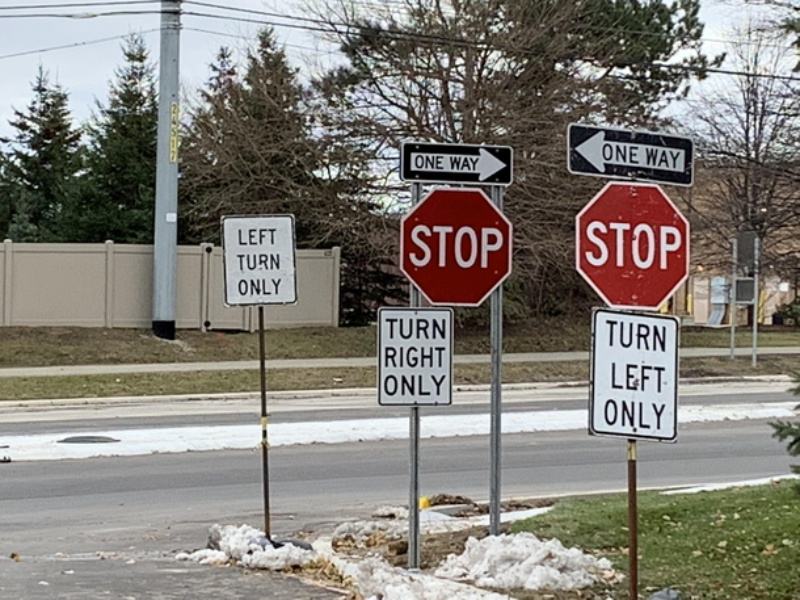stop sign: (570, 176, 693, 313), (396, 185, 515, 310)
